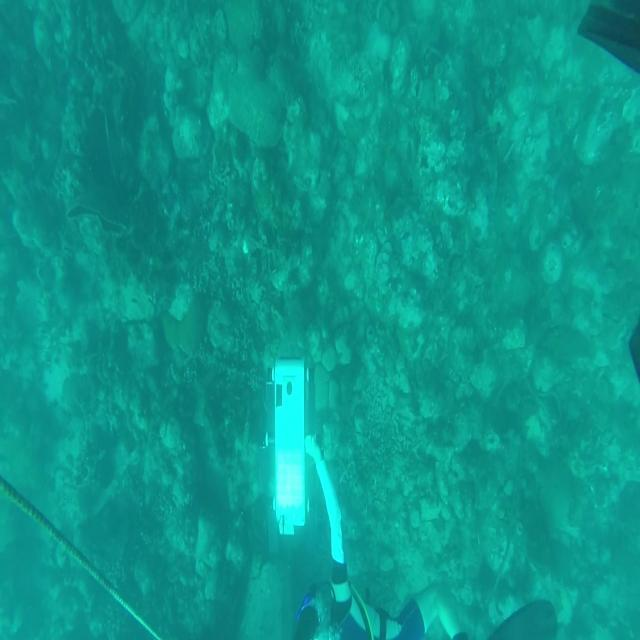human: (294, 432, 558, 638)
